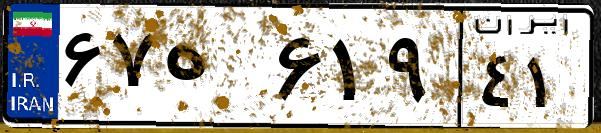1: (330, 28, 385, 110), (525, 38, 570, 115)
4: (475, 38, 525, 113)
6: (270, 28, 330, 110), (57, 26, 110, 100)
7: (110, 28, 158, 98)
9: (385, 28, 445, 110)
ه: (158, 20, 270, 120)
